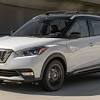Nissan: (1, 12, 100, 83)
